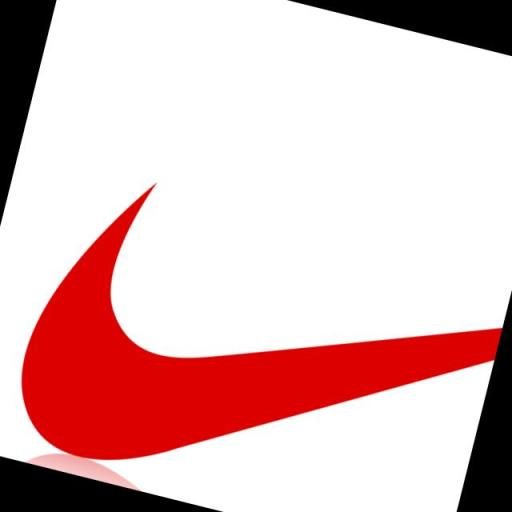Nike: (3, 181, 510, 512)
